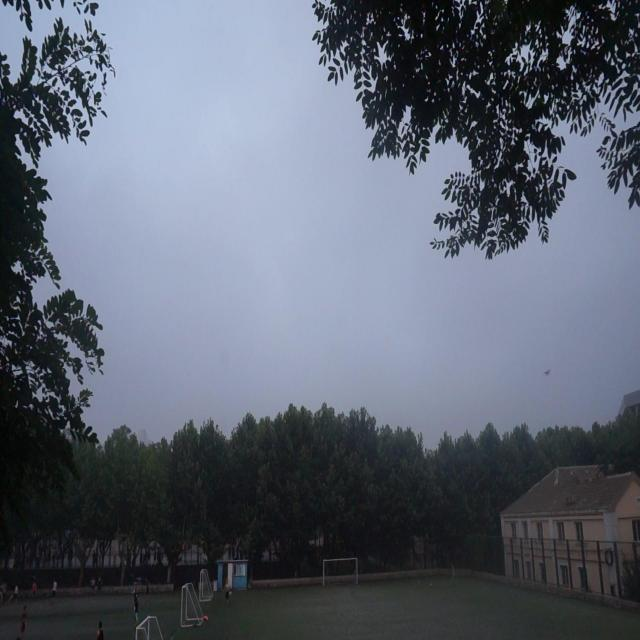UAV: (543, 369, 551, 376)
